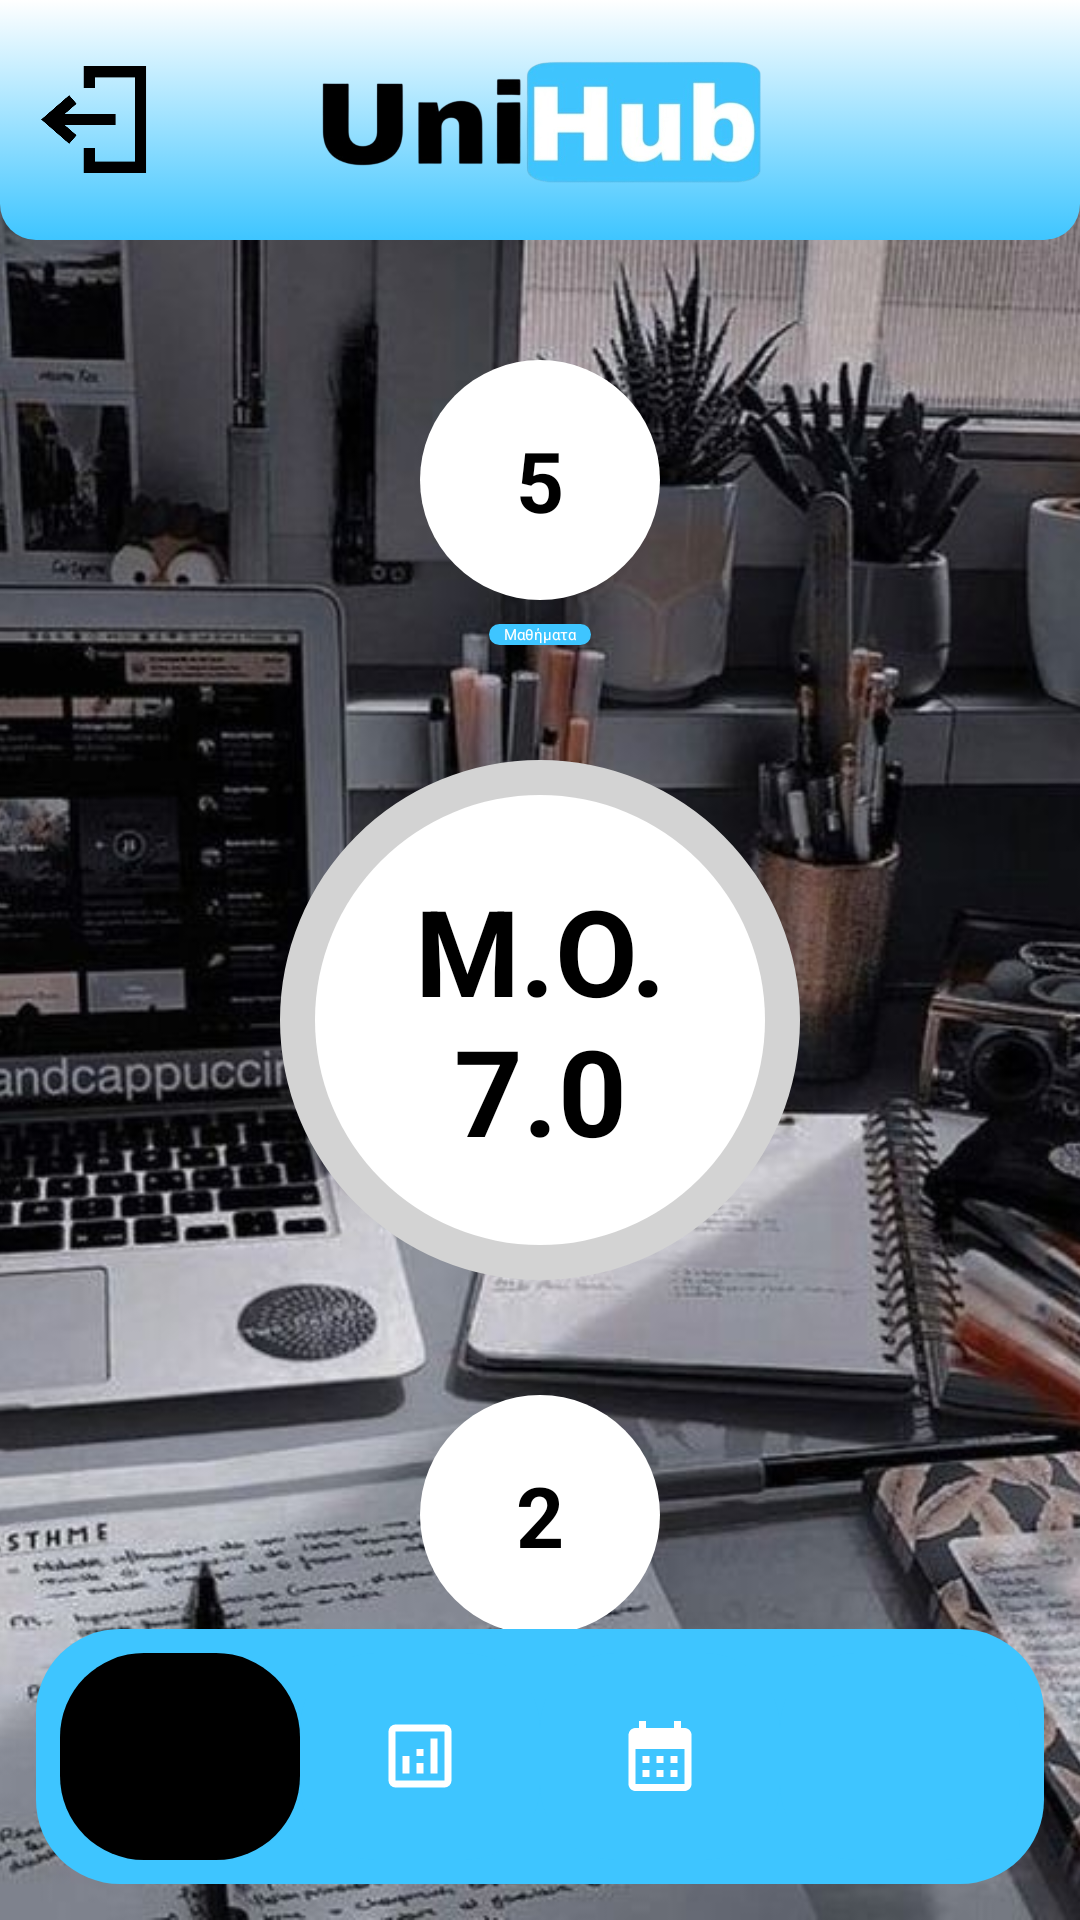

Icons on this 1080x1920 Android screen, each with its box as (x1, y1, x2, y2):
calendar: (628, 1721, 692, 1791)
progress: (388, 1724, 452, 1788)
